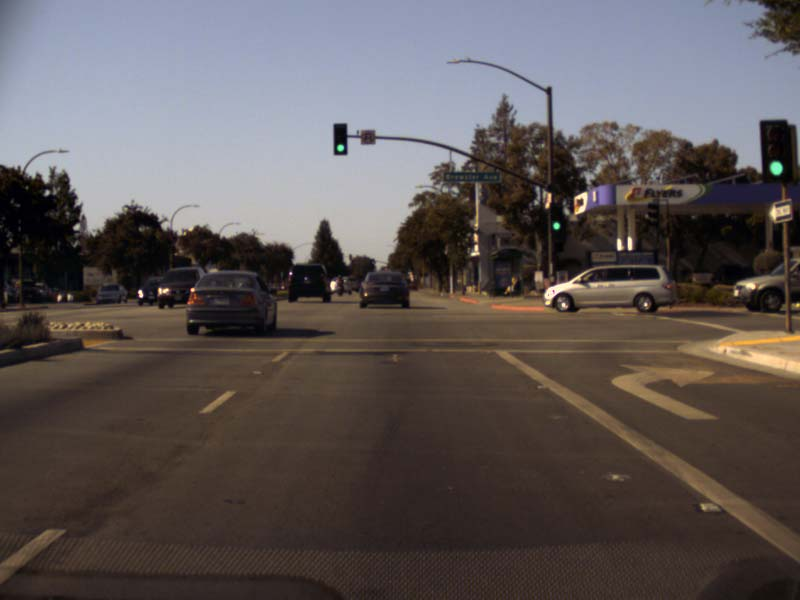Green: (761, 119, 795, 182), (551, 200, 564, 234), (334, 121, 345, 156)
